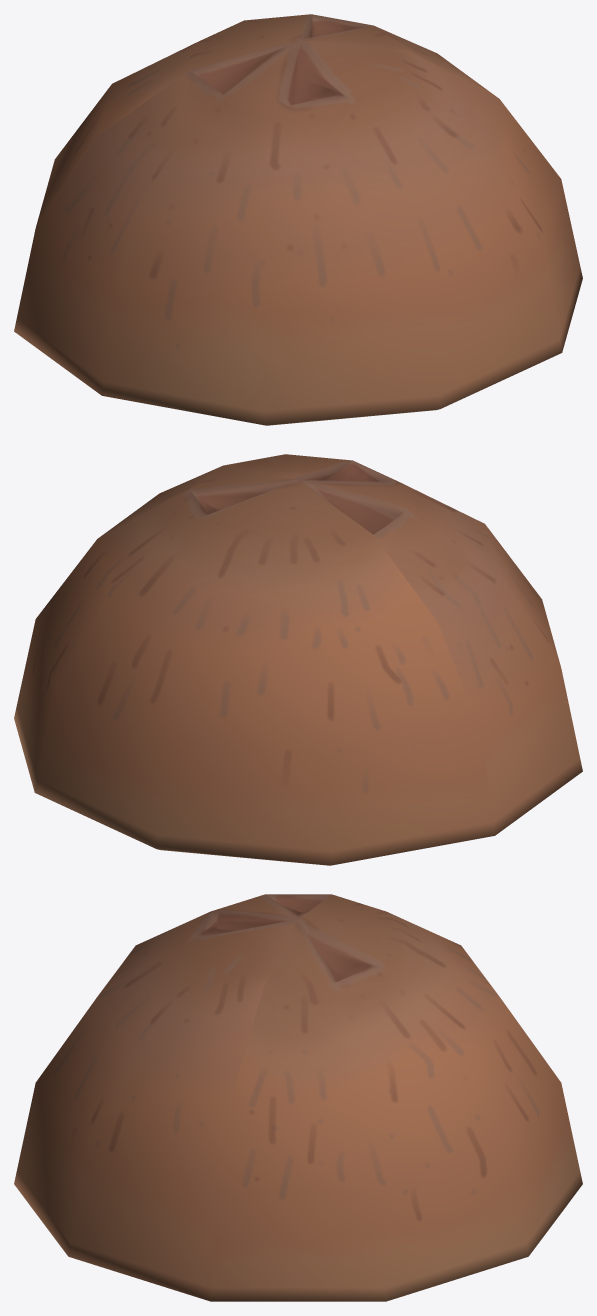
The model's file is bao.fbx.
3 views of the same model, one above another, from view 1: azimuth 30°, elevation 25°; view 2: azimuth 150°, elevation 25°; view 3: azimuth 270°, elevation 25° (orthographic).
Visible parts, largest first — view 1: Bao; view 2: Bao; view 3: Bao.
Boxes of the visible parts, x1,y1,x2,y2 form: Bao: (14, 14, 582, 425); Bao: (14, 454, 582, 865); Bao: (14, 894, 582, 1301).
Bounding box in the file's own units: 68.72 × 37.93 × 70.35.
